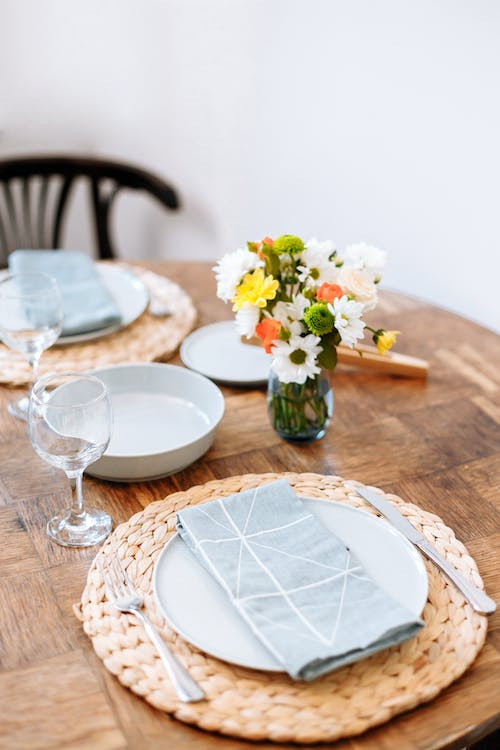knife: (352, 485, 500, 616)
